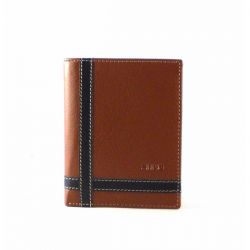monedero: (63, 57, 182, 209)
